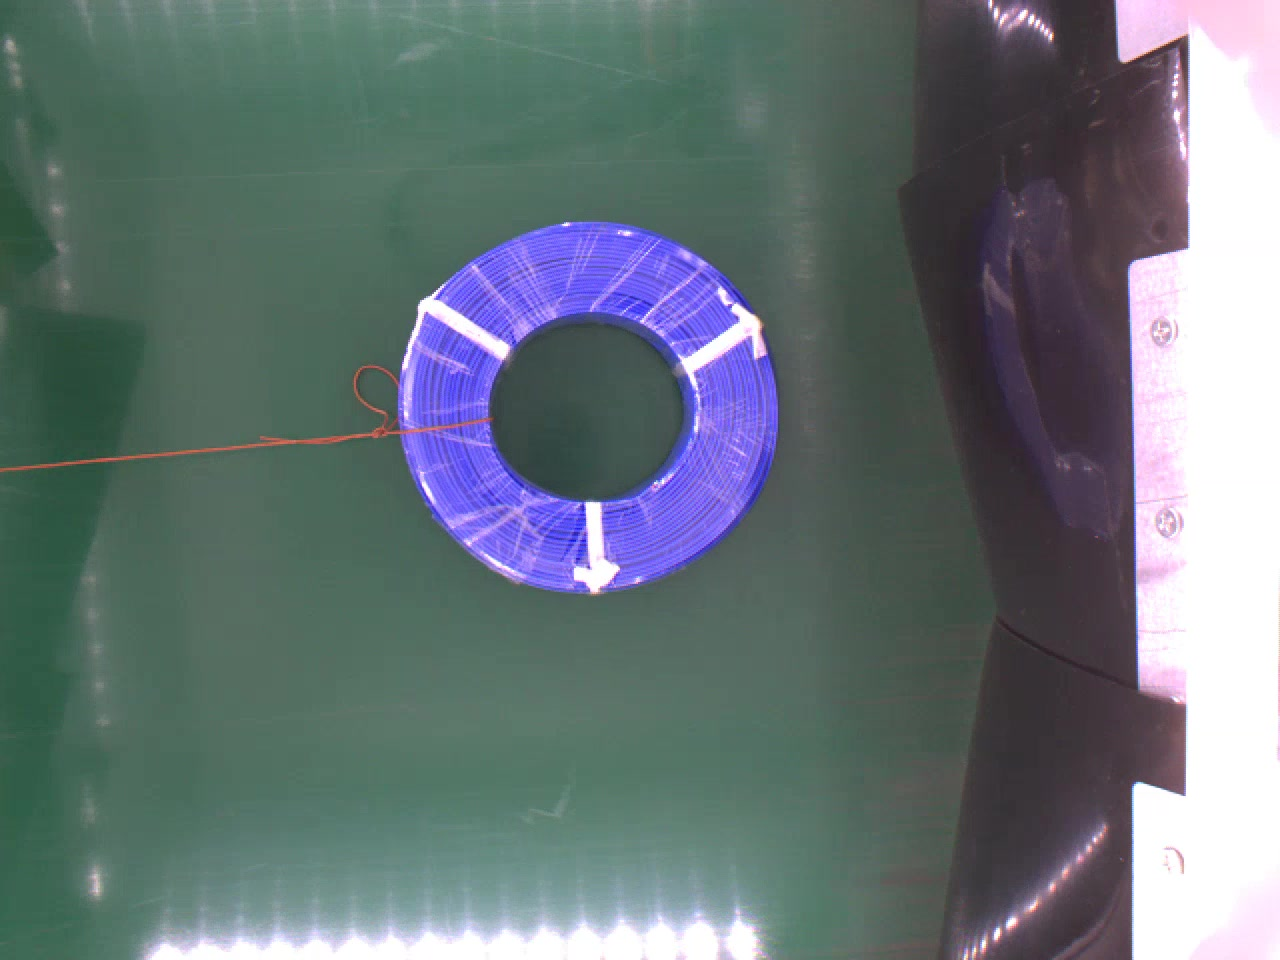blue: (395, 217, 782, 598)
